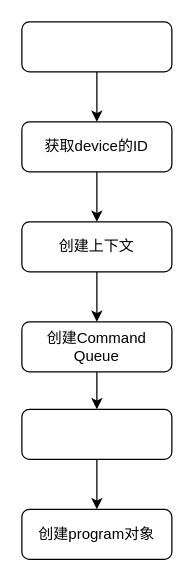
Image size: 194x581. Some labels were removed from this diagram. Here are the shapes that lost their labels. From the top down, the centre of each, then its label:
At [96,46]: "获取platform的ID".
At [96,433]: "加载程序（从源文件）".
